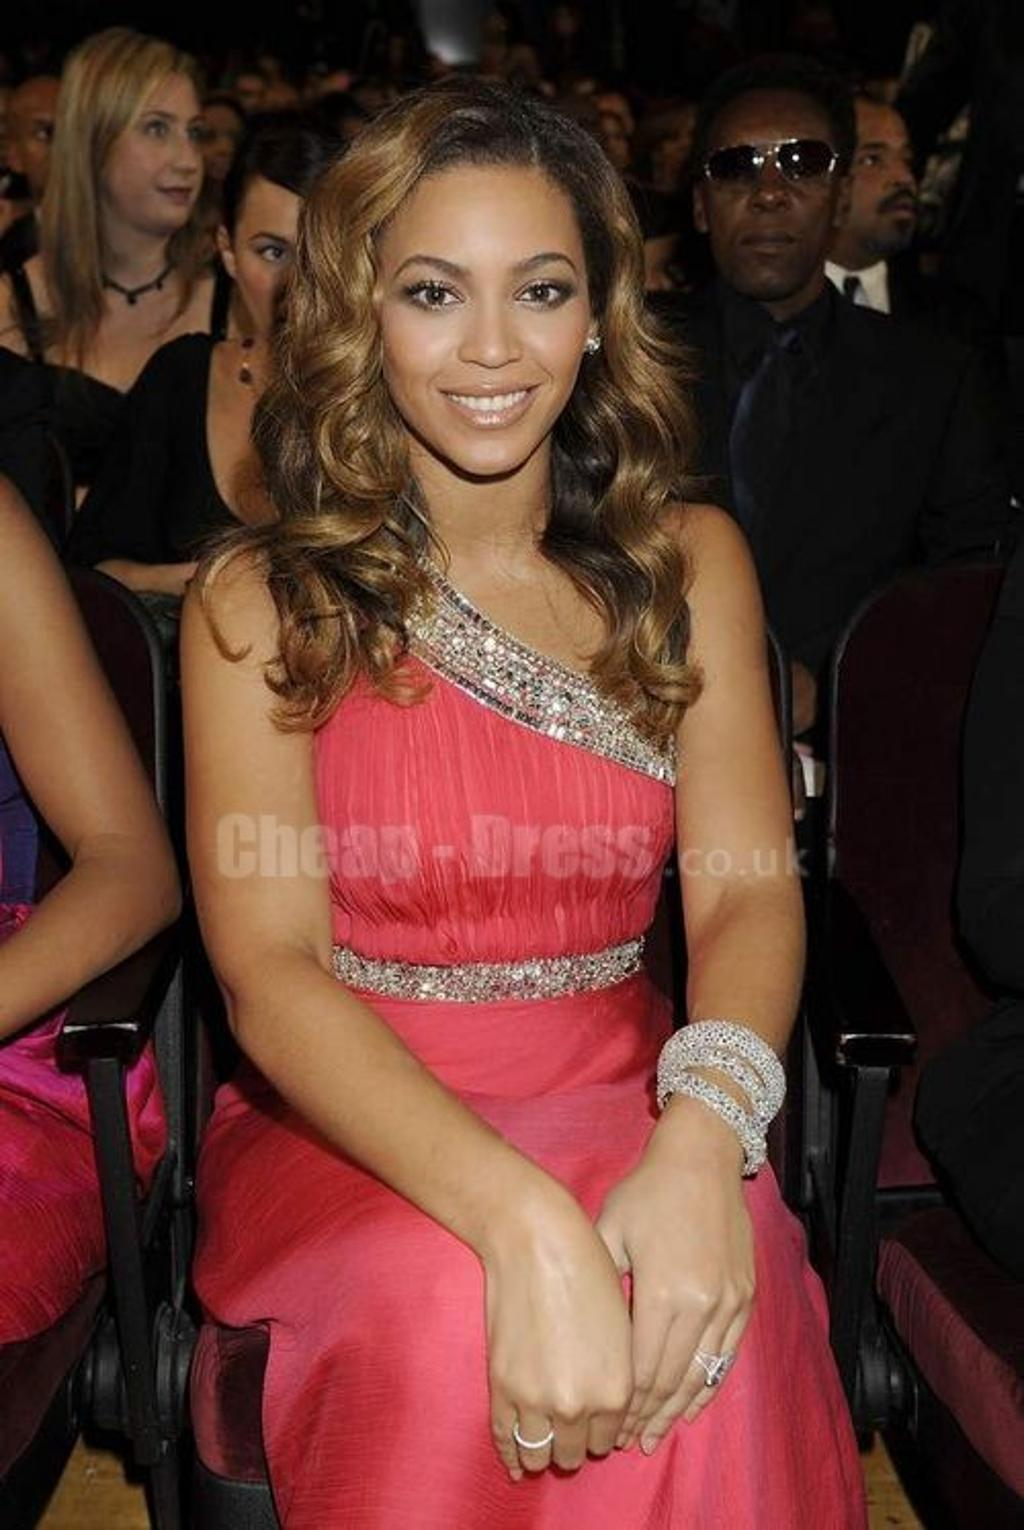face: (367, 155, 594, 474), (696, 107, 845, 298), (239, 182, 346, 340), (830, 90, 920, 272), (110, 66, 203, 224), (9, 87, 90, 203), (188, 110, 254, 191)
